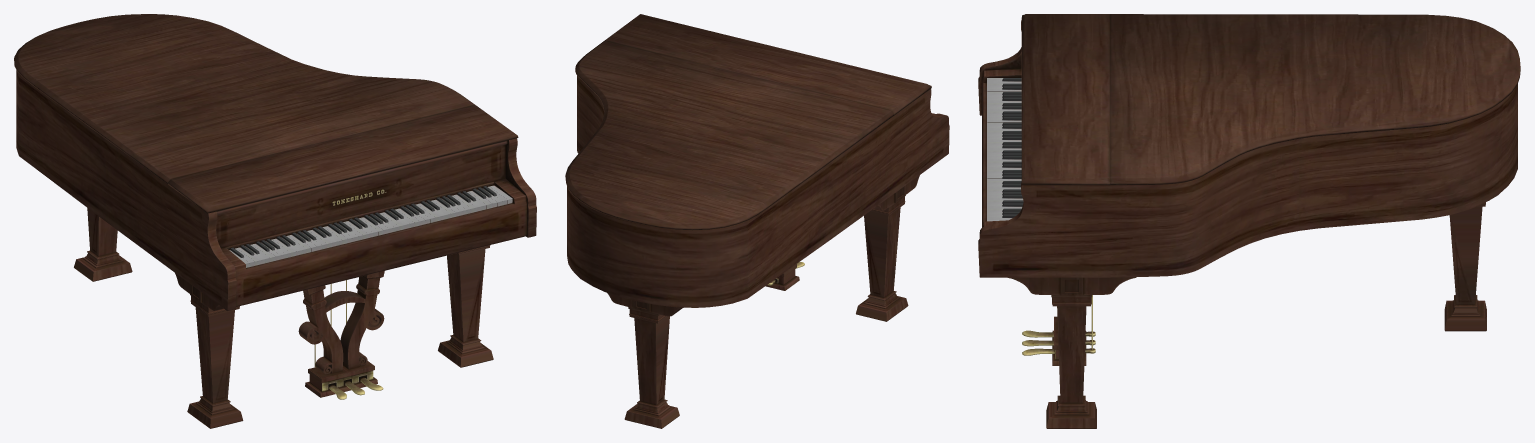
Rendered from pian_old_wooden_grand_piano.glb.
3 renders of one model, left to right at view 1: azimuth 30°, elevation 25°; view 2: azimuth 150°, elevation 25°; view 3: azimuth 270°, elevation 25°, orthographic. The views are drawn at different scales.
Visible parts, largest first — view 1: defaultMaterial; view 2: defaultMaterial; view 3: defaultMaterial.
Part boxes in pixels (<box>): defaultMaterial: <box>14,14,536,428</box>; defaultMaterial: <box>565,14,949,428</box>; defaultMaterial: <box>978,14,1520,428</box>.
Size of the model in its own units: 1.4 by 1 by 1.92.
Materials: 2 (2 with a texture image).
